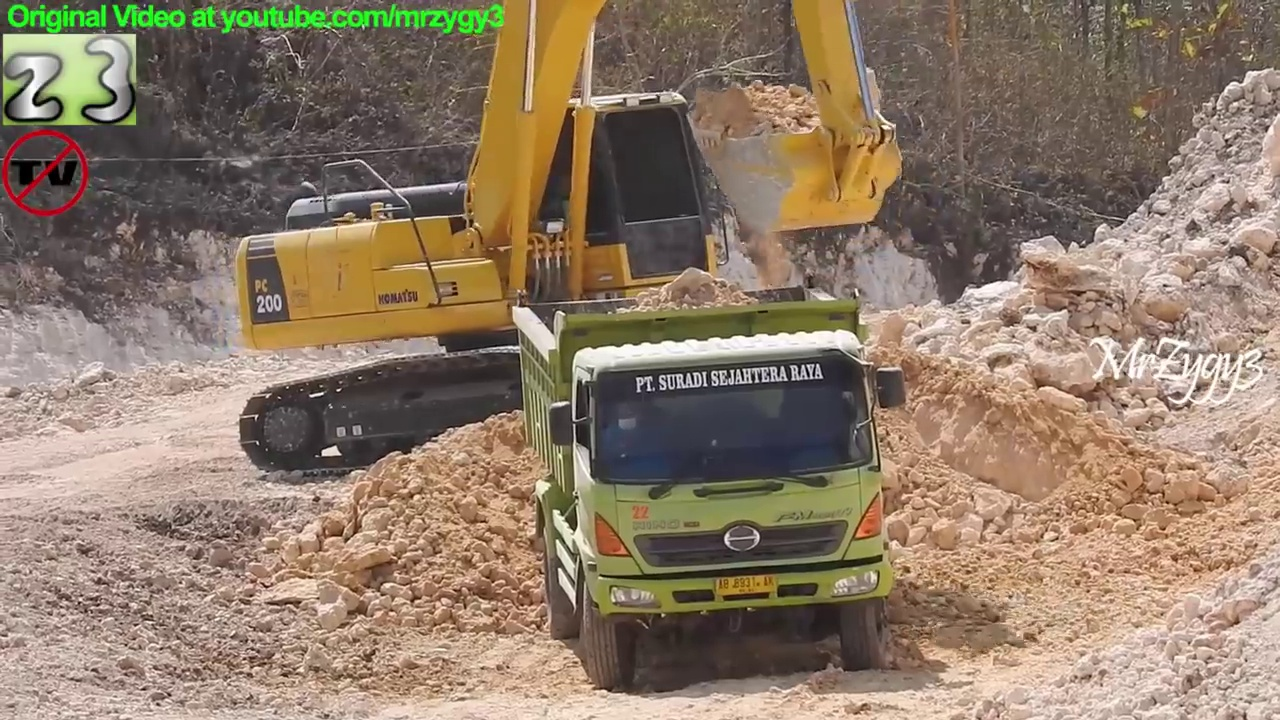excavator: (229, 1, 916, 483)
truck: (505, 274, 913, 696)
